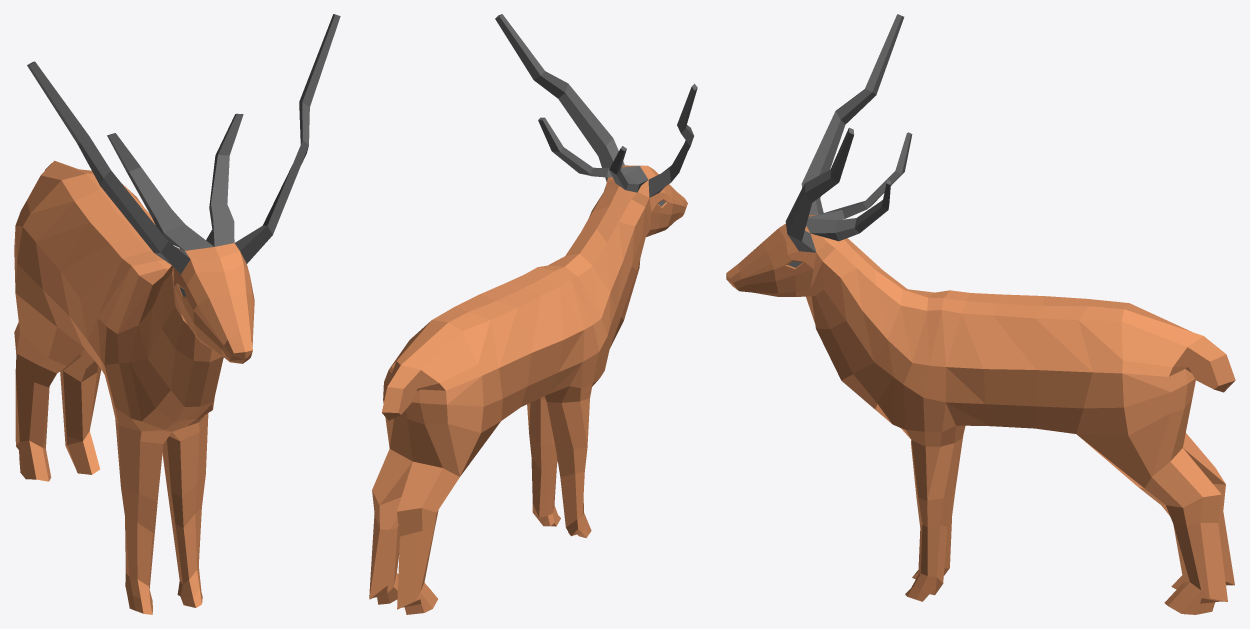
Rendered from Deer.fbx.
3 renders of one model, left to right at view 1: azimuth 30°, elevation 25°; view 2: azimuth 150°, elevation 25°; view 3: azimuth 270°, elevation 25°, orthographic. The views are drawn at different scales.
Visible parts, largest first — view 1: M_Dear; view 2: M_Dear; view 3: M_Dear.
Part boxes in pixels (left/top/right/bottom): M_Dear: left=14, top=14, right=340, bottom=614; M_Dear: left=369, top=14, right=697, bottom=614; M_Dear: left=726, top=14, right=1235, bottom=614.
Bounding box in the file's own units: 46.78 × 93.84 × 84.08.
Materials: 1 (1 with a texture image).
